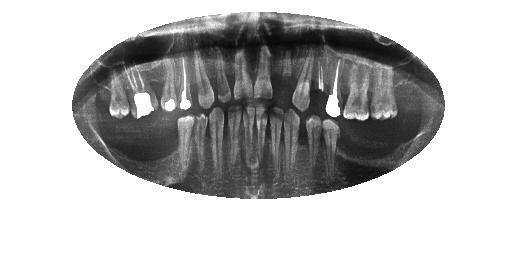Cavity: (279, 42, 295, 85)
Implant: (119, 62, 160, 119), (325, 56, 345, 117), (177, 54, 193, 110)
